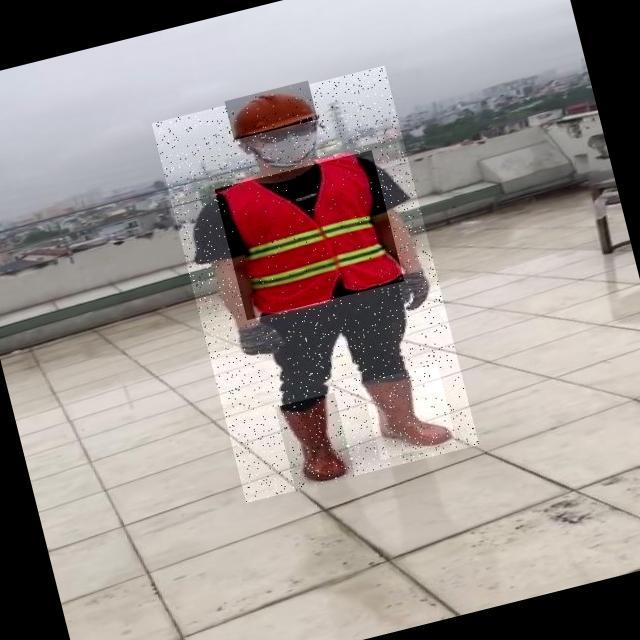Helmet: (225, 80, 318, 140)
Human: (152, 65, 479, 502)
Safety Boot: (361, 363, 456, 459), (275, 392, 356, 491)
Safety Vest: (214, 150, 404, 320)
